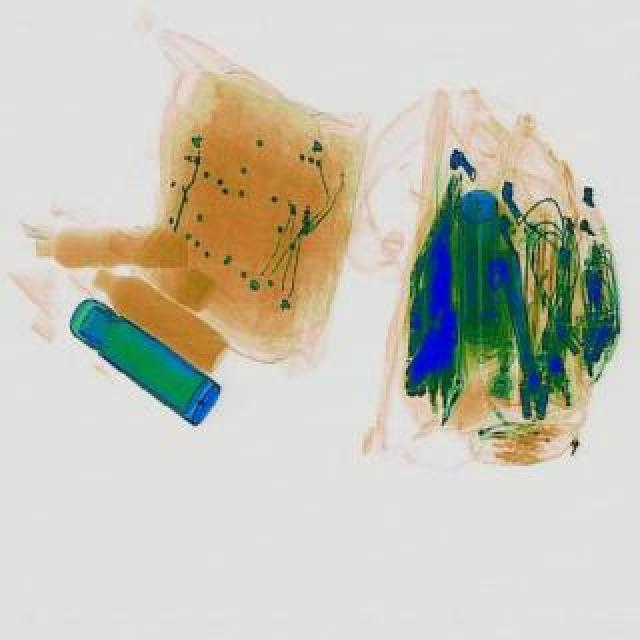scissors: (502, 248, 546, 408)
